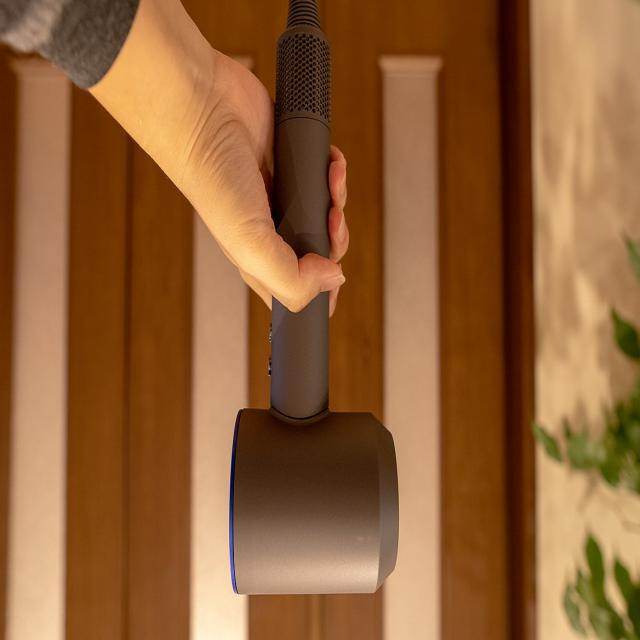dryer: (229, 0, 399, 597)
